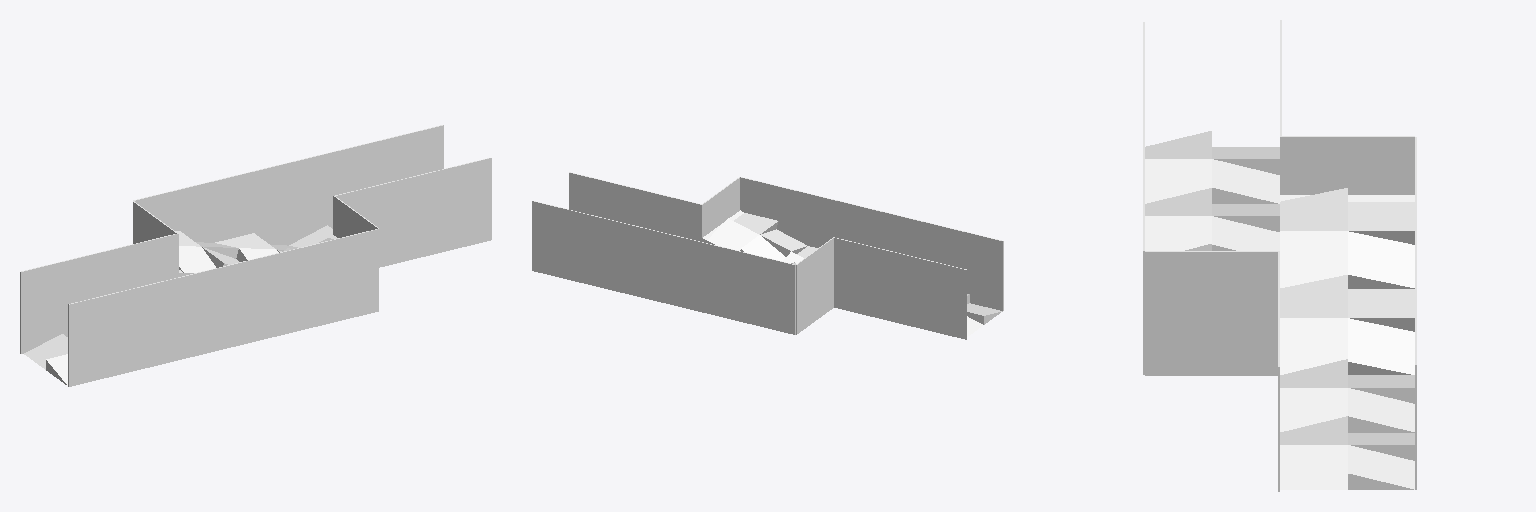
The robot description file, URDF, robot "terrain-ramps_5":
<?xml version="1.0" encoding="utf-8"?>
<!-- This URDF was automatically created by SolidWorks to URDF Exporter! Originally created by [author] ([email redacted]) 
     Commit Version: 1.6.0-4-g7f85cfe  Build Version: 1.6.7995.38578
     For more information, please see http://wiki.ros.org/sw_urdf_exporter -->
<robot
  name="terrain-ramps_5">
  <link
    name="base_link">
    <inertial>
      <origin
        xyz="3.6 1.218 0.34992"
        rpy="0 0 0" />
      <mass
        value="1266.2" />
      <inertia
        ixx="122.43"
        ixy="-1.4198E-13"
        ixz="-1.9807E-13"
        iyy="299.38"
        iyz="-2.071E-14"
        izz="306.21" />
    </inertial>
    <visual>
      <origin
        xyz="0 0 0"
        rpy="0 0 0" />
      <geometry>
        <mesh
          filename="package://terrain-ramps_5/meshes/base_link.STL" />
      </geometry>
      <material
        name="">
        <color
          rgba="1 1 1 1" />
      </material>
    </visual>
    <collision>
      <origin
        xyz="0 0 0"
        rpy="0 0 0" />
      <geometry>
        <mesh
          filename="package://terrain-ramps_5/meshes/base_link.STL" />
      </geometry>
    </collision>
  </link>
</robot>

--- Render facts (derived) ---
Views: 3 orthographic renders of the robot side by side, from view 1: azimuth 30°, elevation 25°; view 2: azimuth 150°, elevation 25°; view 3: azimuth 270°, elevation 25°.
Robot: terrain-ramps_5 — 1 links, 0 joints (none); root link base_link; default pose: all joints at 0.
Visible links, largest first — view 1: base_link; view 2: base_link; view 3: base_link.
Boxes of the visible links, bbox=[...] form: base_link: bbox=[20, 125, 491, 386]; base_link: bbox=[532, 172, 1003, 339]; base_link: bbox=[1143, 20, 1416, 491].
Size in the robot's own frame: 7.28 by 2.44 by 1.22 metres.
Meshes: 1 distinct files referenced, 1 mesh visuals loaded (1 binary STL).